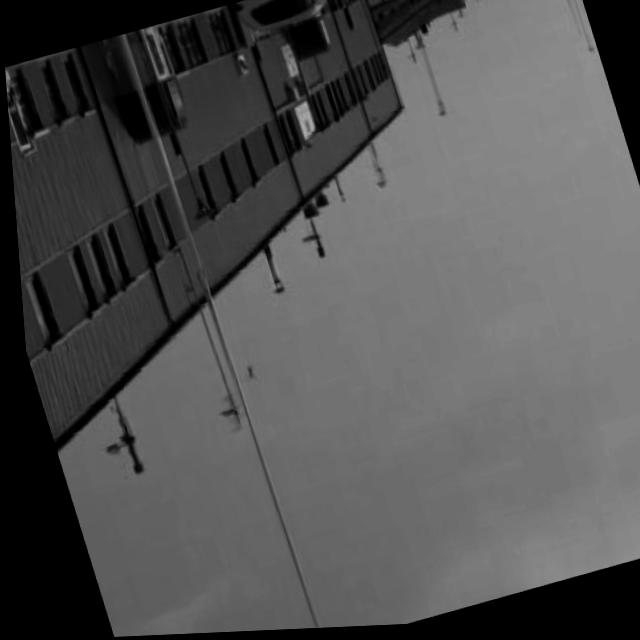helikopter: (232, 354, 259, 389)
